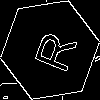R: (25, 25, 78, 75)
